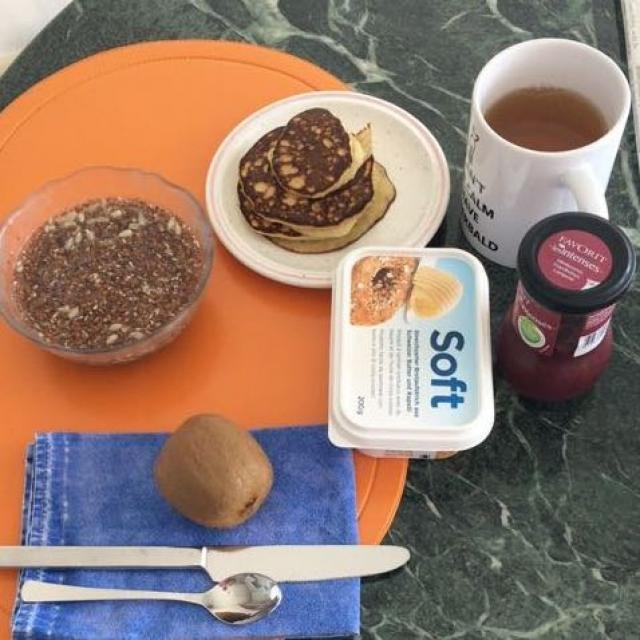kiwi: (142, 414, 292, 531)
pancakes: (220, 98, 409, 266)
tea: (481, 75, 614, 176)
